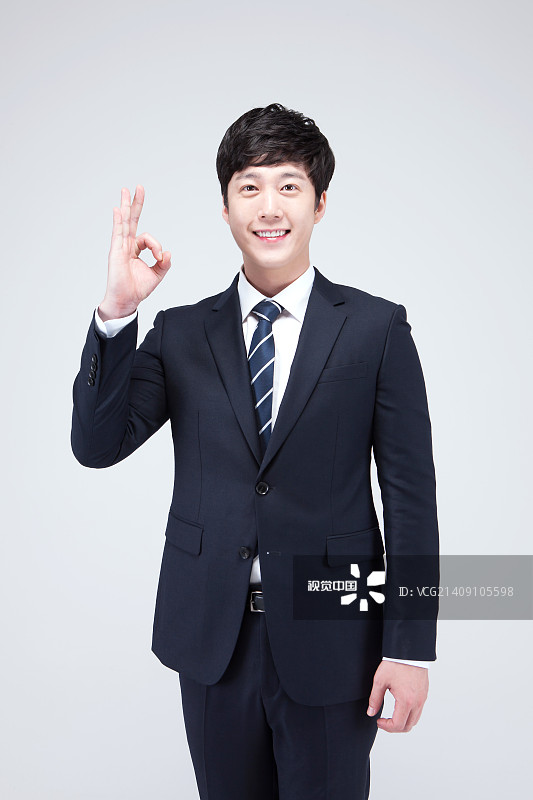no-phone: (84, 162, 185, 330), (346, 638, 444, 743)
